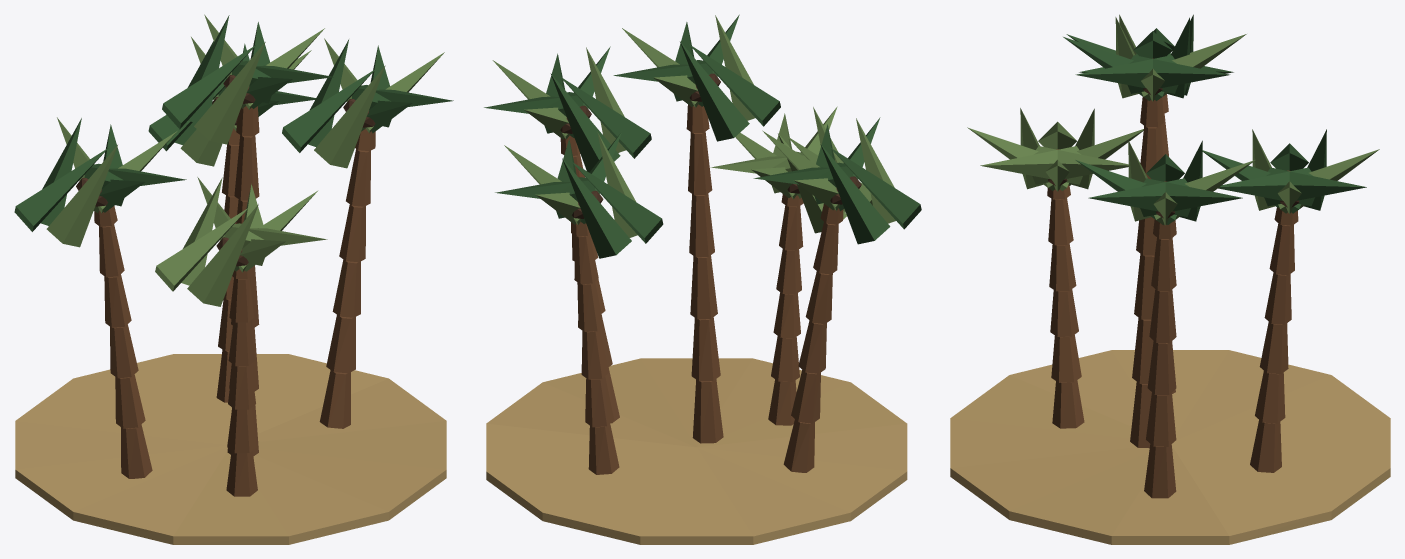
Rendered from Coconut-grove.glb.
3 renders of one model, left to right at view 1: azimuth 30°, elevation 25°; view 2: azimuth 150°, elevation 25°; view 3: azimuth 270°, elevation 25°, orthographic. The views are drawn at different scales.
Visible parts, largest first — view 1: coconut-grove-static-coconut-grove-muted-sandy-ground, coconut-grove-static-coconut-grove-warm-segmented-trunks, coconut-grove-static-coconut-grove-light-young-fronds, coconut-grove-static-coconut-grove-deep-green-fronds, coconut-grove-static-coconut-grove-dark-coconuts; view 2: coconut-grove-static-coconut-grove-muted-sandy-ground, coconut-grove-static-coconut-grove-warm-segmented-trunks, coconut-grove-static-coconut-grove-deep-green-fronds, coconut-grove-static-coconut-grove-light-young-fronds, coconut-grove-static-coconut-grove-dark-coconuts; view 3: coconut-grove-static-coconut-grove-muted-sandy-ground, coconut-grove-static-coconut-grove-warm-segmented-trunks, coconut-grove-static-coconut-grove-deep-green-fronds, coconut-grove-static-coconut-grove-light-young-fronds.
Boxes of the visible parts, box(x1,y1,x2,y2) form: coconut-grove-static-coconut-grove-muted-sandy-ground: box(15, 354, 446, 544); coconut-grove-static-coconut-grove-warm-segmented-trunks: box(94, 106, 375, 496); coconut-grove-static-coconut-grove-light-young-fronds: box(46, 14, 444, 306); coconut-grove-static-coconut-grove-deep-green-fronds: box(14, 15, 453, 231); coconut-grove-static-coconut-grove-dark-coconuts: box(76, 75, 375, 266); coconut-grove-static-coconut-grove-muted-sandy-ground: box(486, 358, 907, 544); coconut-grove-static-coconut-grove-warm-segmented-trunks: box(560, 104, 843, 474); coconut-grove-static-coconut-grove-deep-green-fronds: box(484, 14, 921, 258); coconut-grove-static-coconut-grove-light-young-fronds: box(492, 15, 895, 237); coconut-grove-static-coconut-grove-dark-coconuts: box(560, 73, 861, 218); coconut-grove-static-coconut-grove-muted-sandy-ground: box(950, 350, 1390, 544); coconut-grove-static-coconut-grove-warm-segmented-trunks: box(1047, 58, 1298, 498); coconut-grove-static-coconut-grove-deep-green-fronds: box(1063, 14, 1366, 224); coconut-grove-static-coconut-grove-light-young-fronds: box(967, 14, 1379, 225).
Size of the model in its own units: 7.3 by 6.91 by 6.28.
